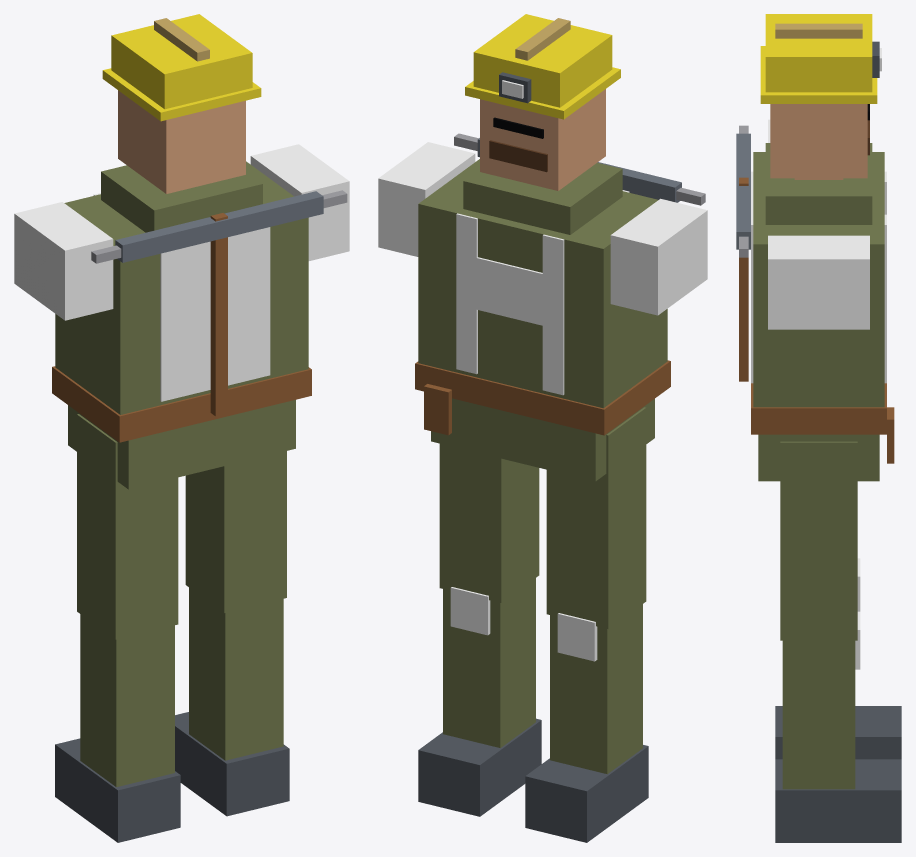
Rendered from MINER.gltf.
3 renders of one model, left to right at view 1: azimuth 30°, elevation 25°; view 2: azimuth 150°, elevation 25°; view 3: azimuth 270°, elevation 25°, orthographic. The views are drawn at different scales.
Visible parts, largest first — view 1: MINER; view 2: MINER; view 3: MINER.
Boxes of the visible parts, x1,y1,x2,y2 form: MINER: (14, 14, 349, 842); MINER: (378, 14, 707, 842); MINER: (736, 14, 901, 842).
Size of the model in its own units: 0.68 by 1.76 by 0.34.
